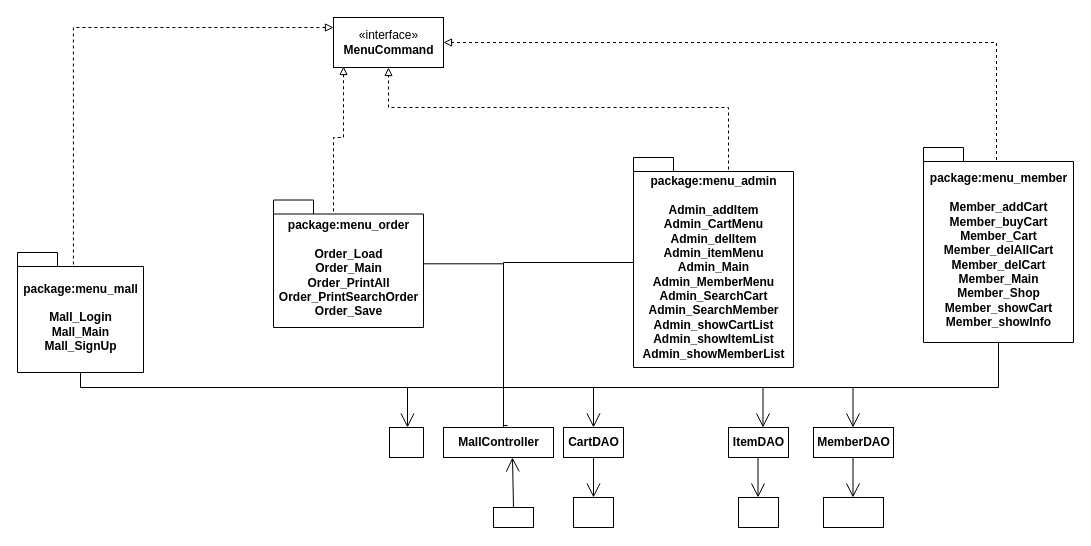
Some shapes in this 1091 by 546 pixel diagram are drawn without their labels. Each missing label, with the centre of its shape:
"_Main" belongs at point (513, 517).
"Cart" belongs at point (593, 512).
"Item" belongs at point (758, 512).
"Member" belongs at point (853, 512).
"Util" belongs at point (406, 442).
